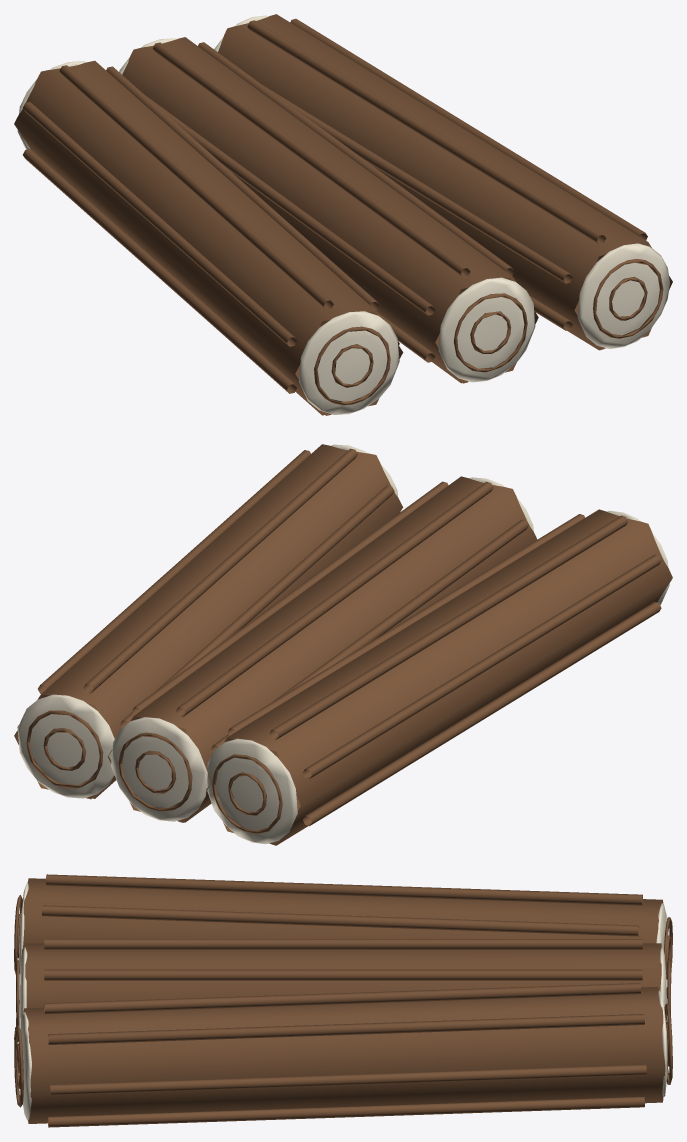
File: wood.glb
The picture shows the model from 3 angles, top to bottom: view 1: azimuth 30°, elevation 25°; view 2: azimuth 150°, elevation 25°; view 3: azimuth 270°, elevation 25°; orthographic projection. The views are drawn at different scales.
Parts seen in each view (by area): view 1: rough bark, cut end grain; view 2: rough bark, cut end grain; view 3: rough bark, cut end grain.
Boxes of the visible parts, x1,y1,x2,y2 form: rough bark: [14, 14, 672, 415]; cut end grain: [17, 15, 669, 414]; rough bark: [14, 444, 672, 845]; cut end grain: [17, 444, 669, 844]; rough bark: [14, 874, 672, 1127]; cut end grain: [19, 882, 667, 1120].
Size of the model in its own units: 0.699 by 0.2008 by 1.08.
